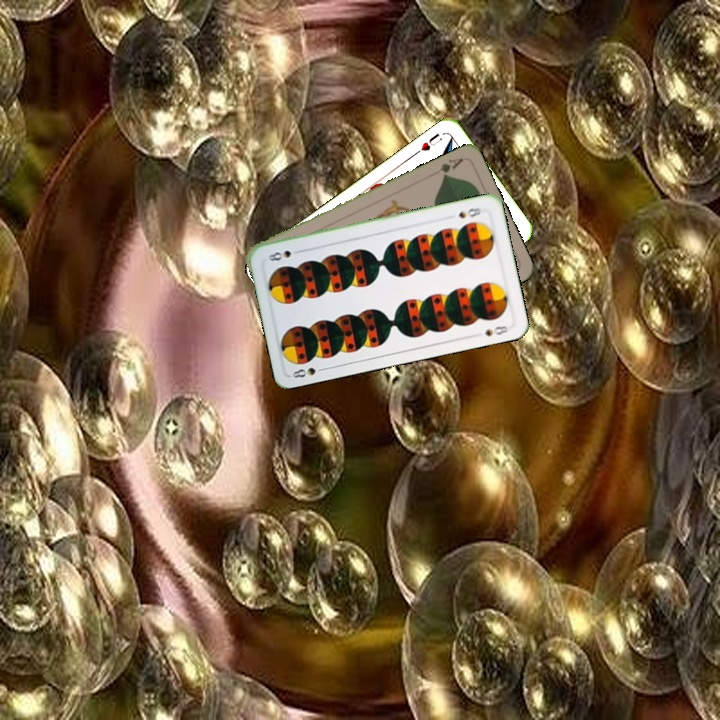GA: (428, 154, 466, 180)
HU: (411, 129, 445, 157)
S8: (289, 363, 329, 380), (455, 203, 483, 221)
